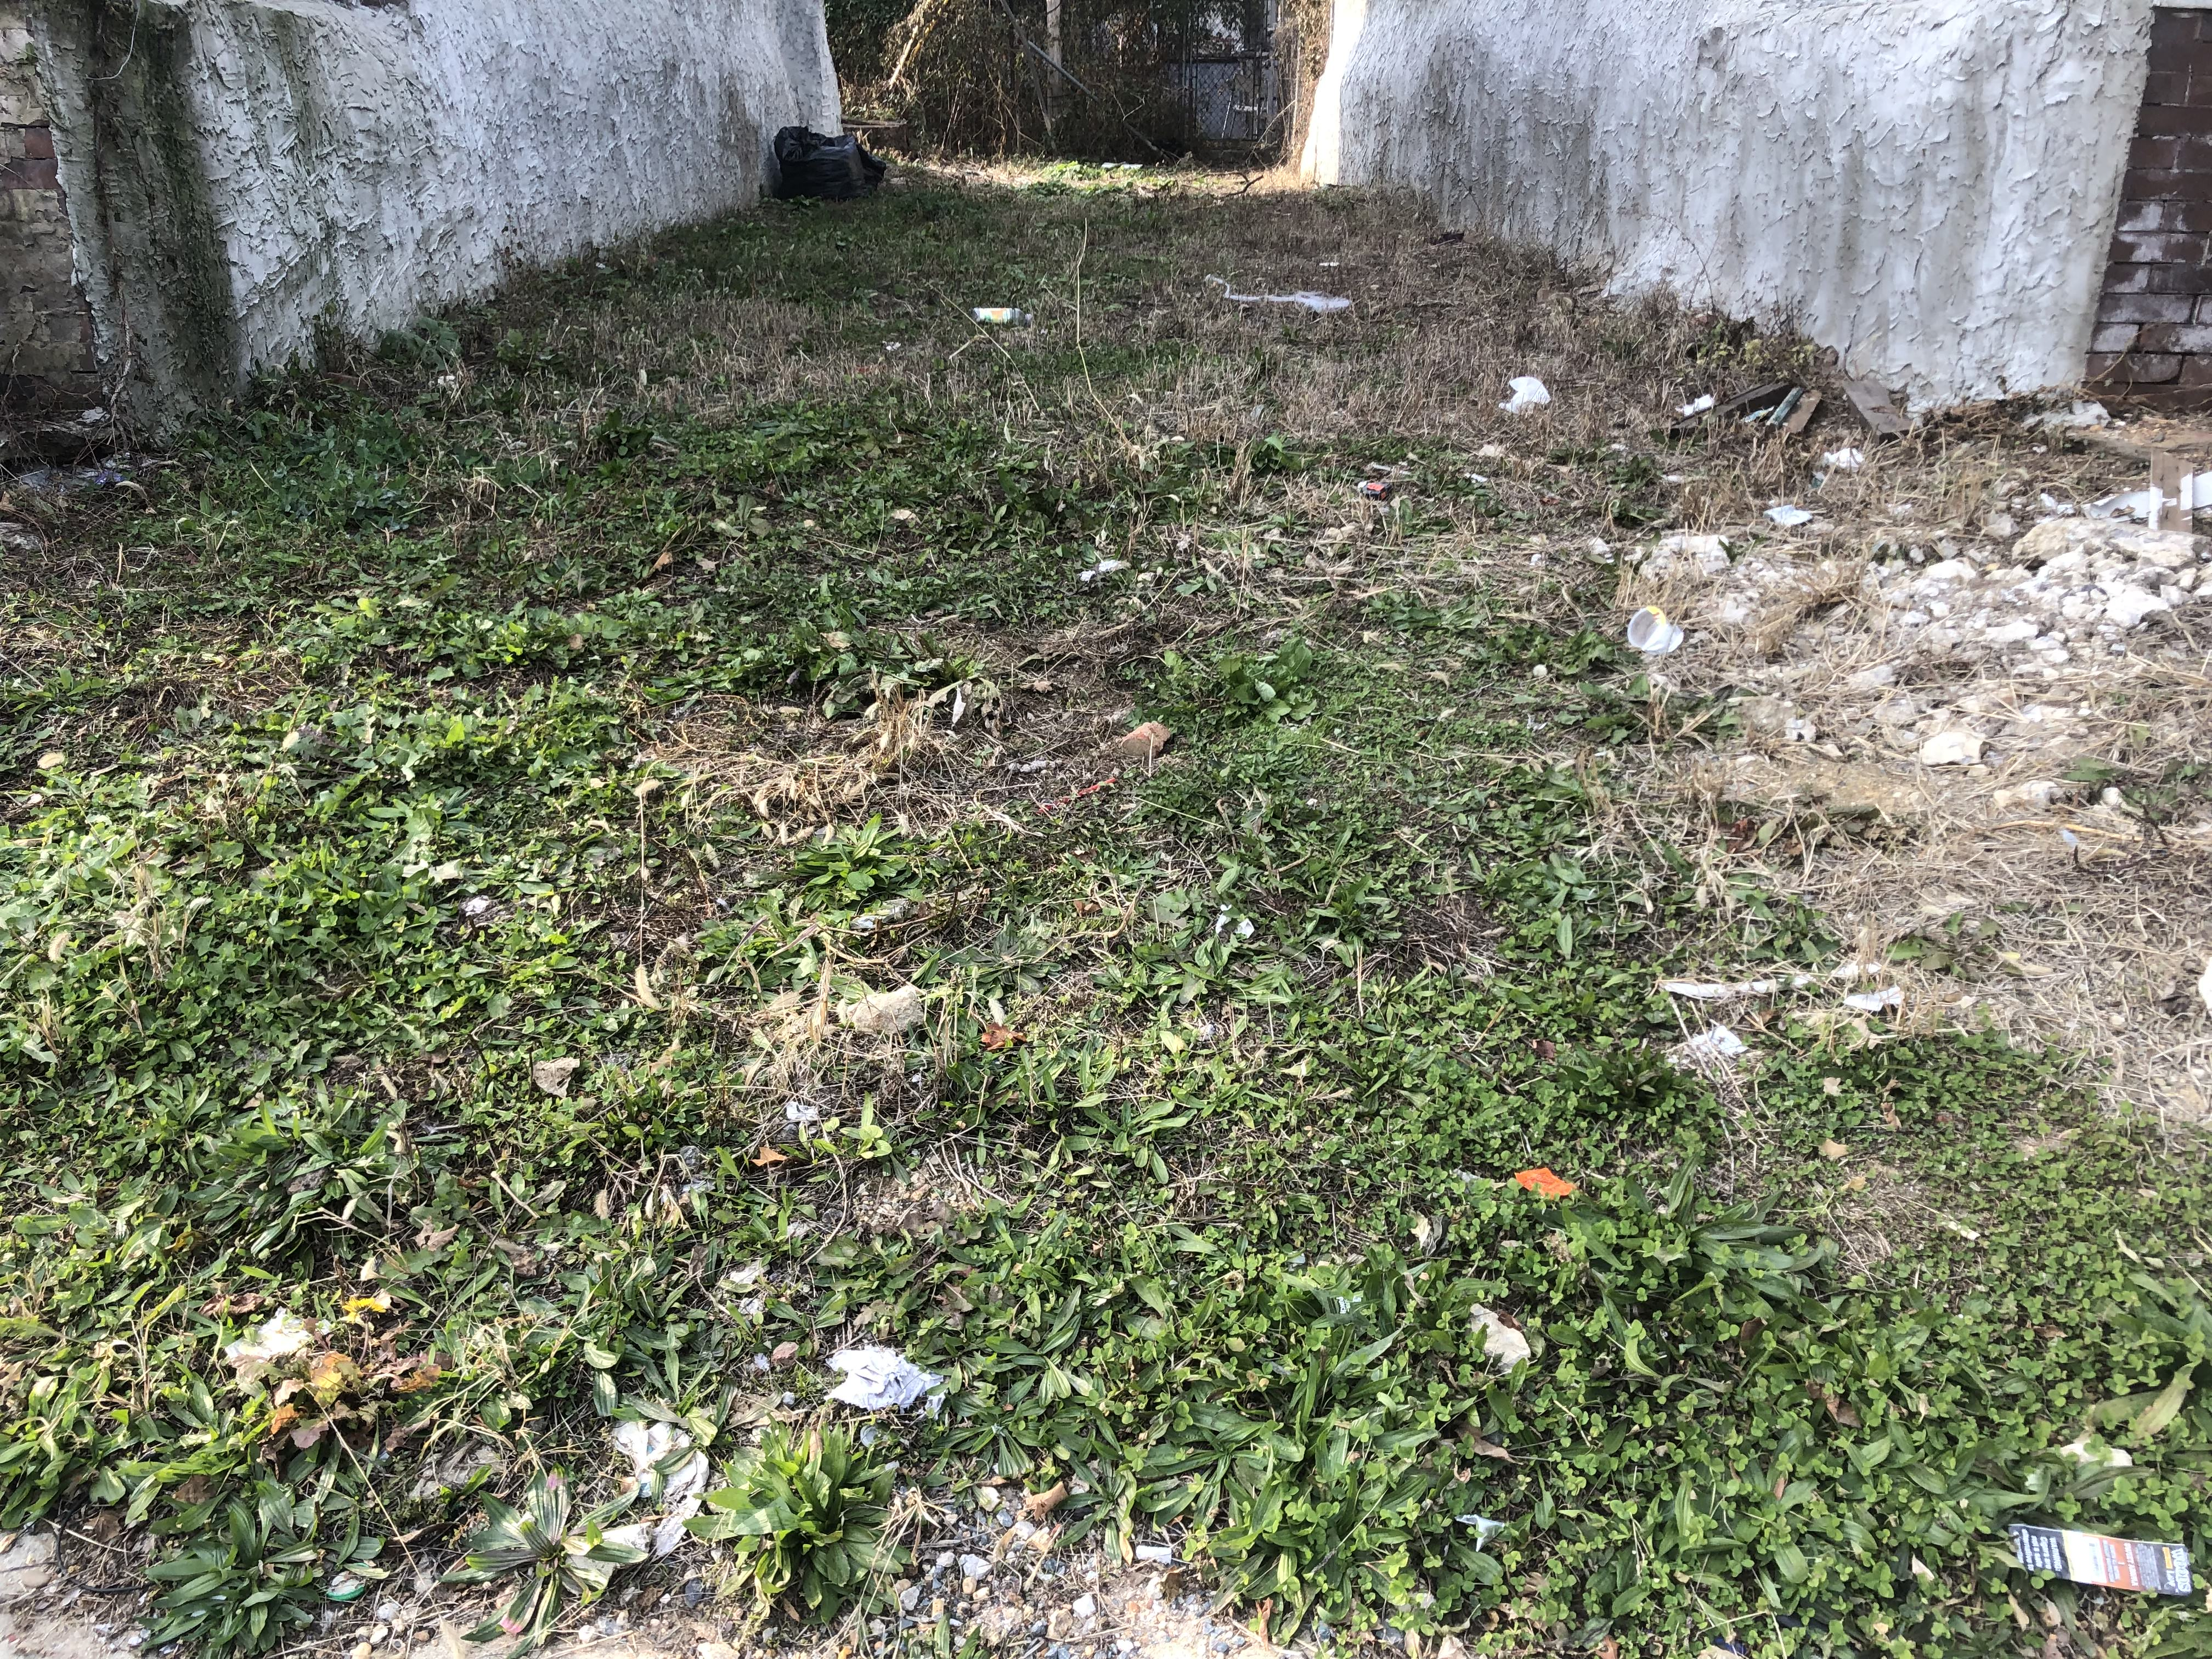good_lawn: (296, 261, 1916, 1380)
trash: (1470, 1136, 1629, 1248), (1177, 281, 1378, 362), (1470, 368, 1620, 450)
